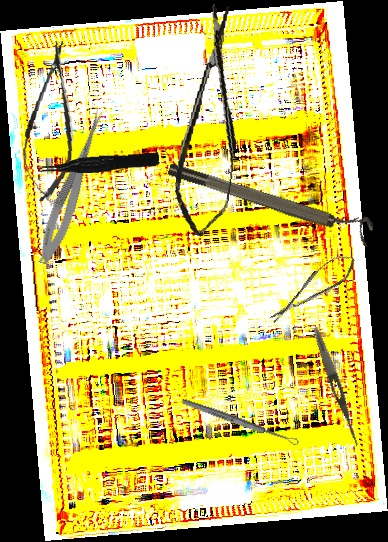Dressing Forceps: (309, 325, 364, 448)
Fixation Ring: (166, 151, 376, 247)
Micro Scissor: (168, 1, 256, 240), (33, 105, 109, 268), (17, 38, 84, 204), (263, 249, 361, 328)
Surgical Spoon: (180, 397, 300, 447)
Tissue Forceps: (38, 152, 160, 175)
